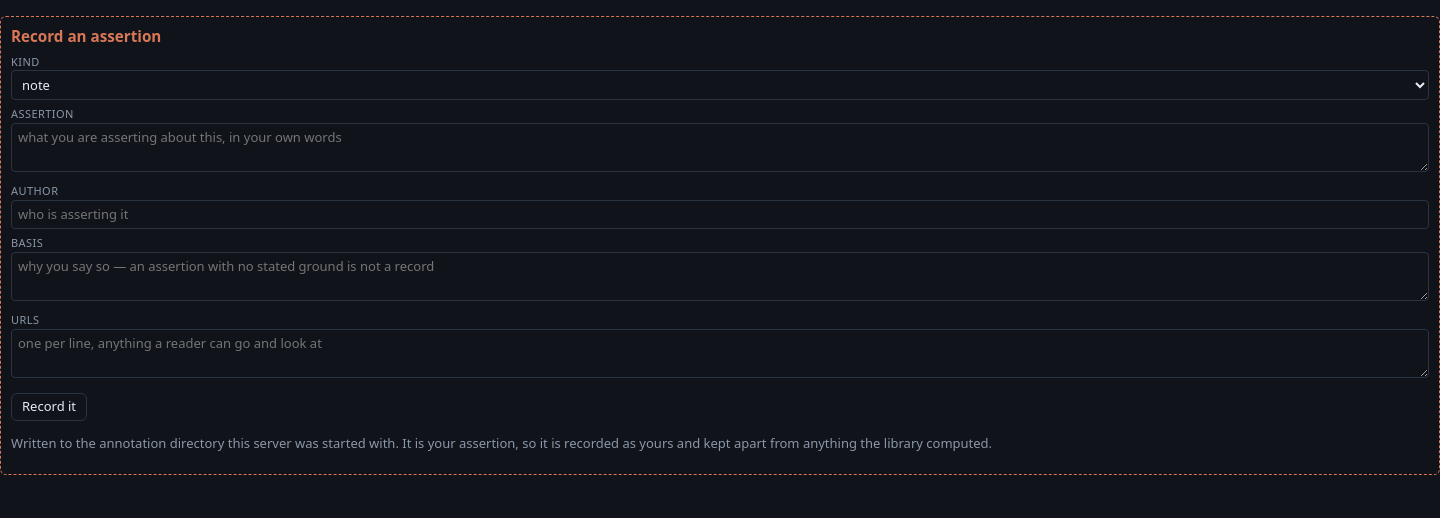
it: what the form refuses › shows the server's refusal verbatim and keeps what was typed
This screenshot has width=1440, height=518.
Type "a venue deposit address" into the text box labelled "assertion" at [720, 147], box [11, 123, 1429, 172]
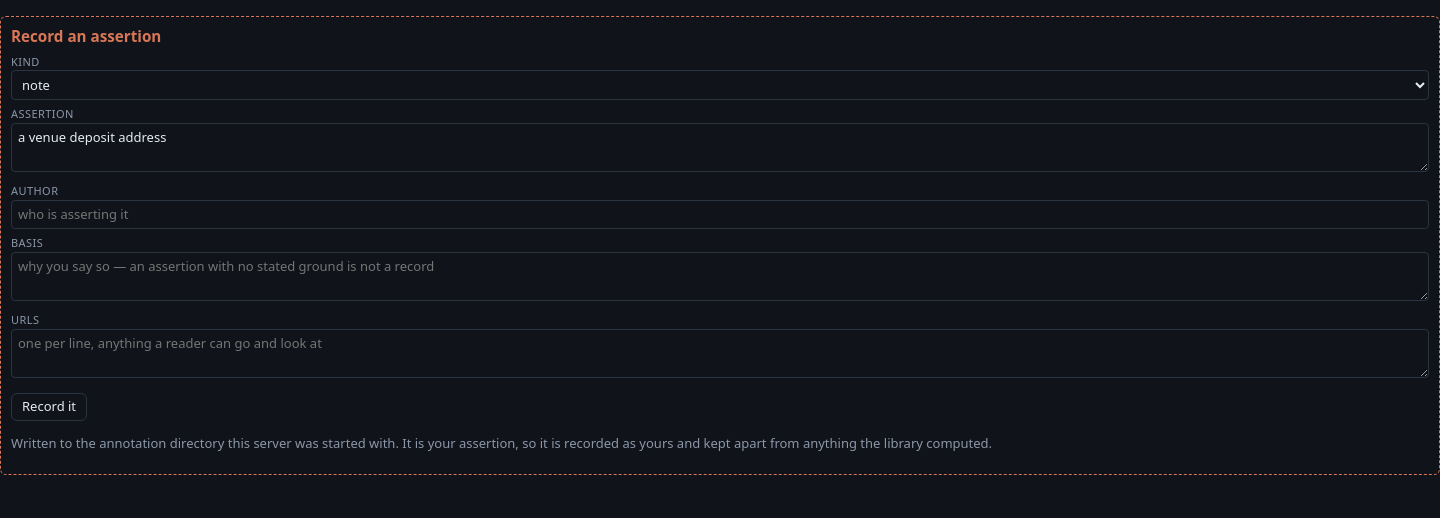
Type "pm" into the field labelled "author" at [720, 215], box [11, 200, 1429, 229]
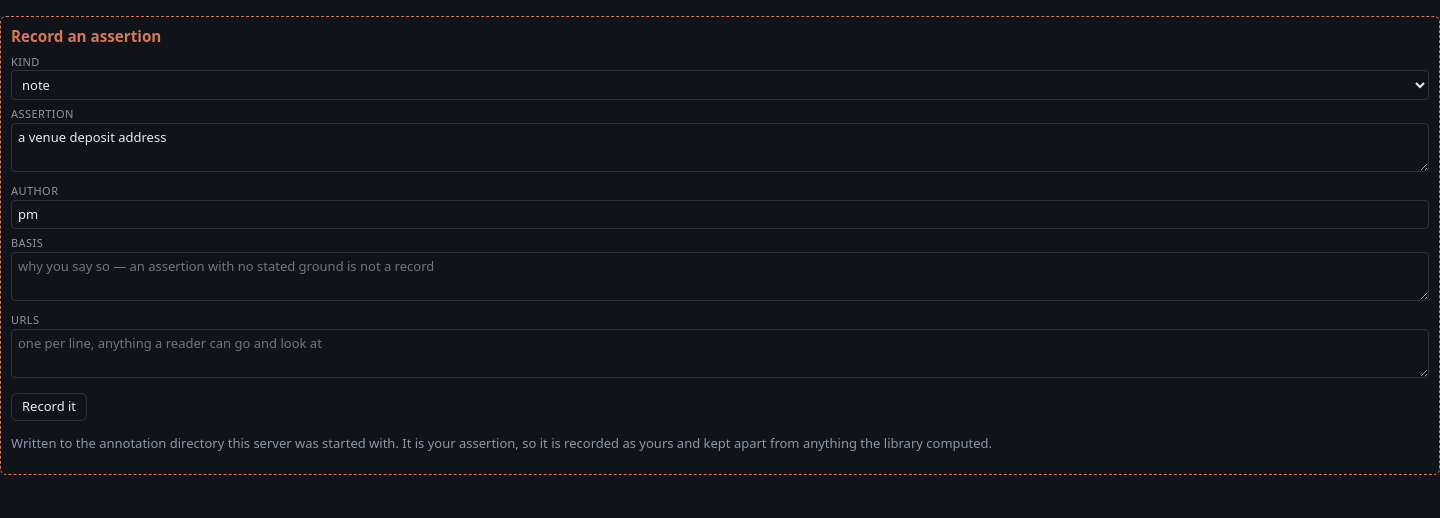
Replace the text in the text box labelled "basis" with "listed on the venue's own deposit page" at [720, 276], box [11, 252, 1429, 301]
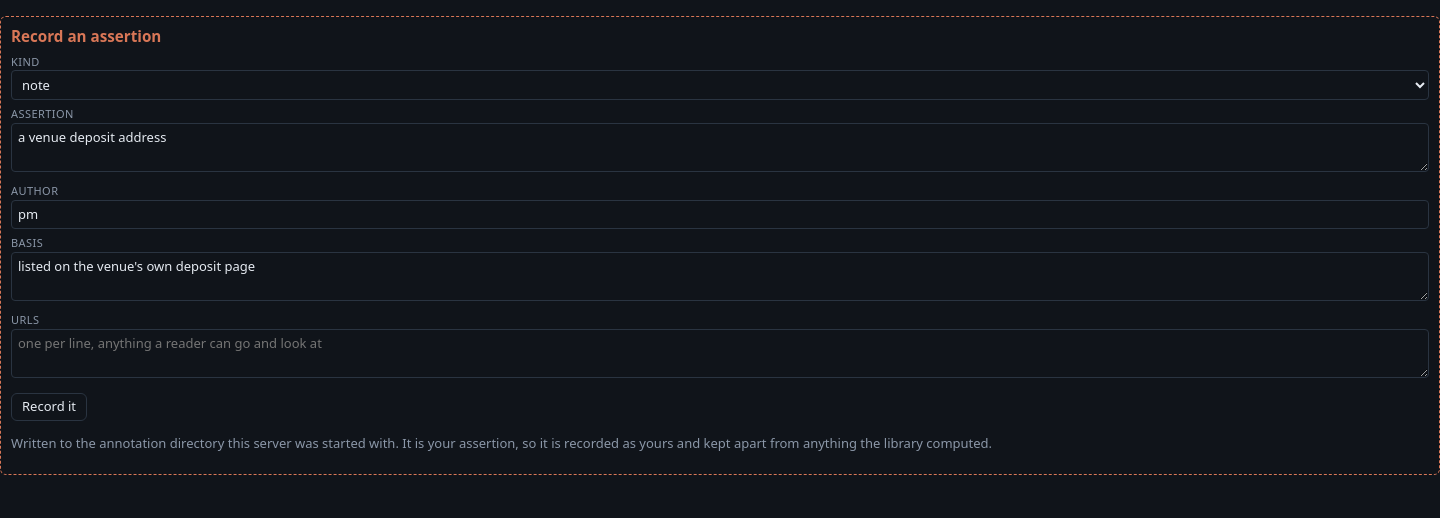
Click the button "Record it" at [49, 407], box [11, 393, 87, 421]
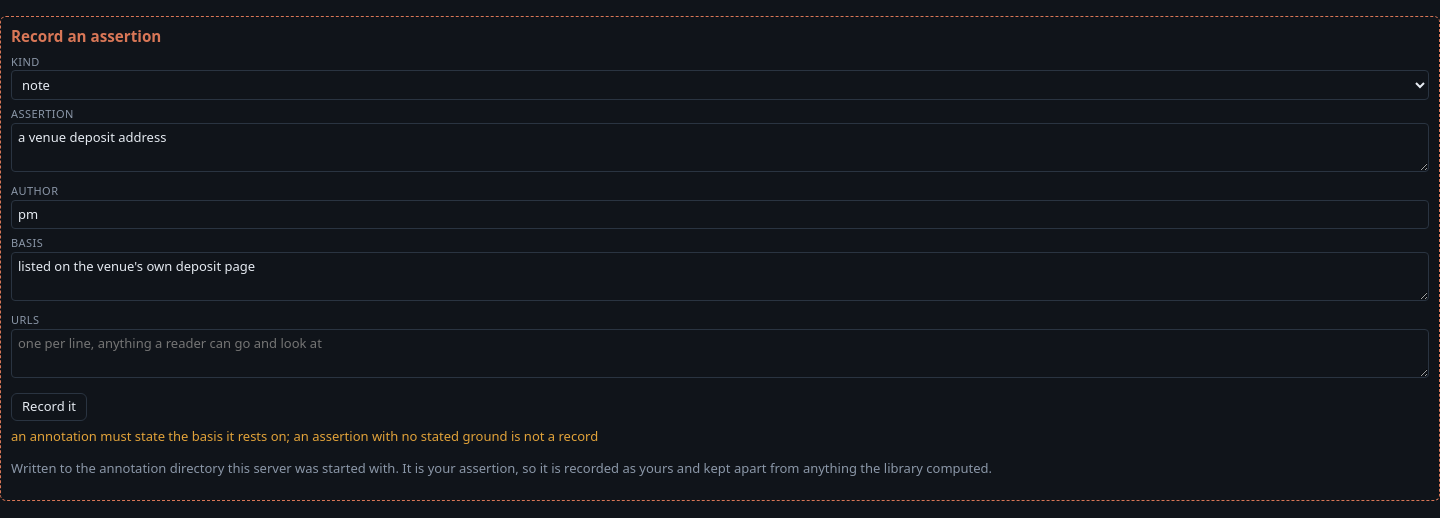
Result: the text "an assertion with no stated ground is not a record" is shown at [11, 427, 598, 445]
